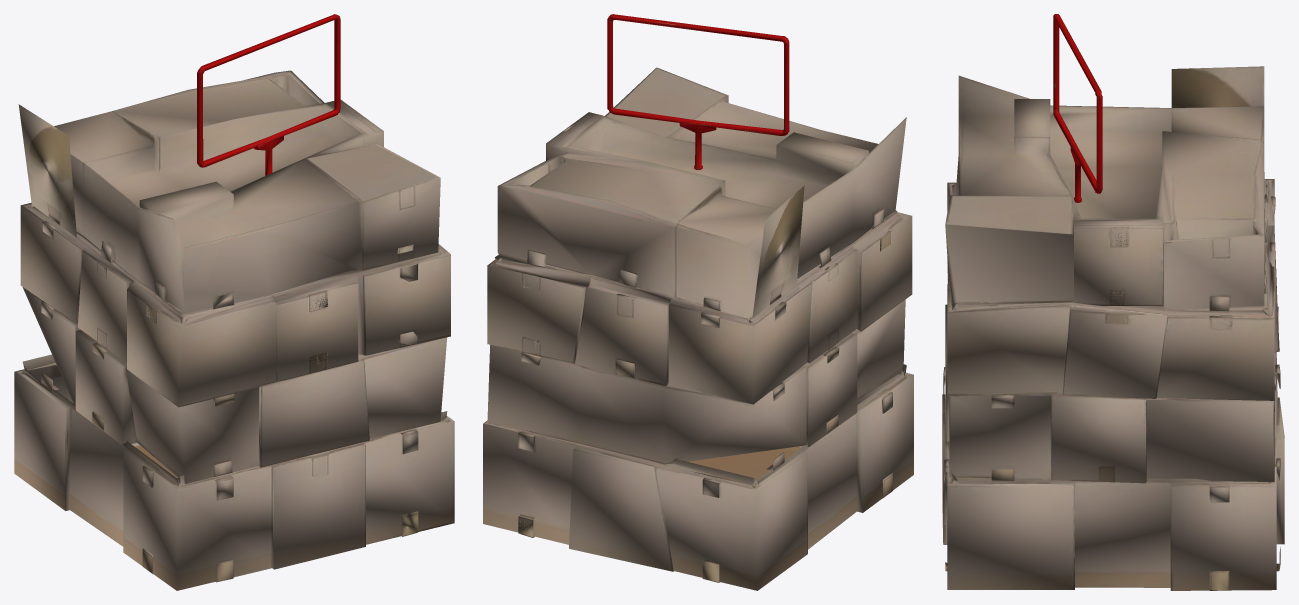
Rendered from ilha_caixas.glb.
3 views of the same model, side by side, from view 1: azimuth 30°, elevation 25°; view 2: azimuth 150°, elevation 25°; view 3: azimuth 270°, elevation 25° (orthographic). The views are drawn at different scales.
Visible parts, largest first — view 1: Ilha de caixas; view 2: Ilha de caixas; view 3: Ilha de caixas.
Boxes of the visible parts, x1,y1,x2,y2 form: Ilha de caixas: (14,14,454,590); Ilha de caixas: (483,14,913,590); Ilha de caixas: (942,14,1284,590).
Bounding box in the file's own units: 0.6348 × 0.998 × 0.6504.
Materials: 1 (1 with a texture image).
